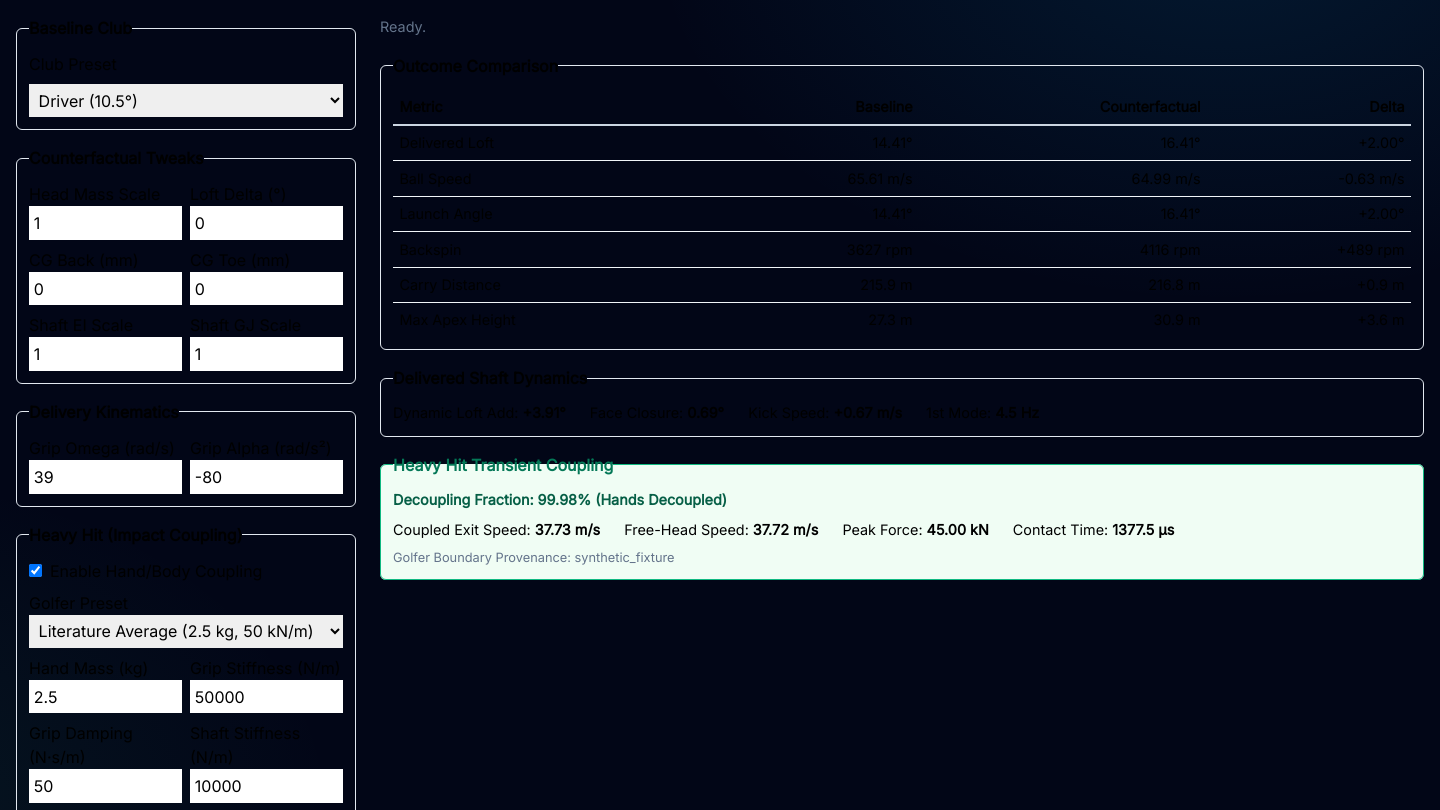
Scenario: ClubTesterPanel component › updates counterfactual calculations on Run Evaluation click
Replace the text in the number field labelled "Loft Delta" with "2.0". click: (266,223)
box: [190, 206, 343, 240]
(page scrolled)
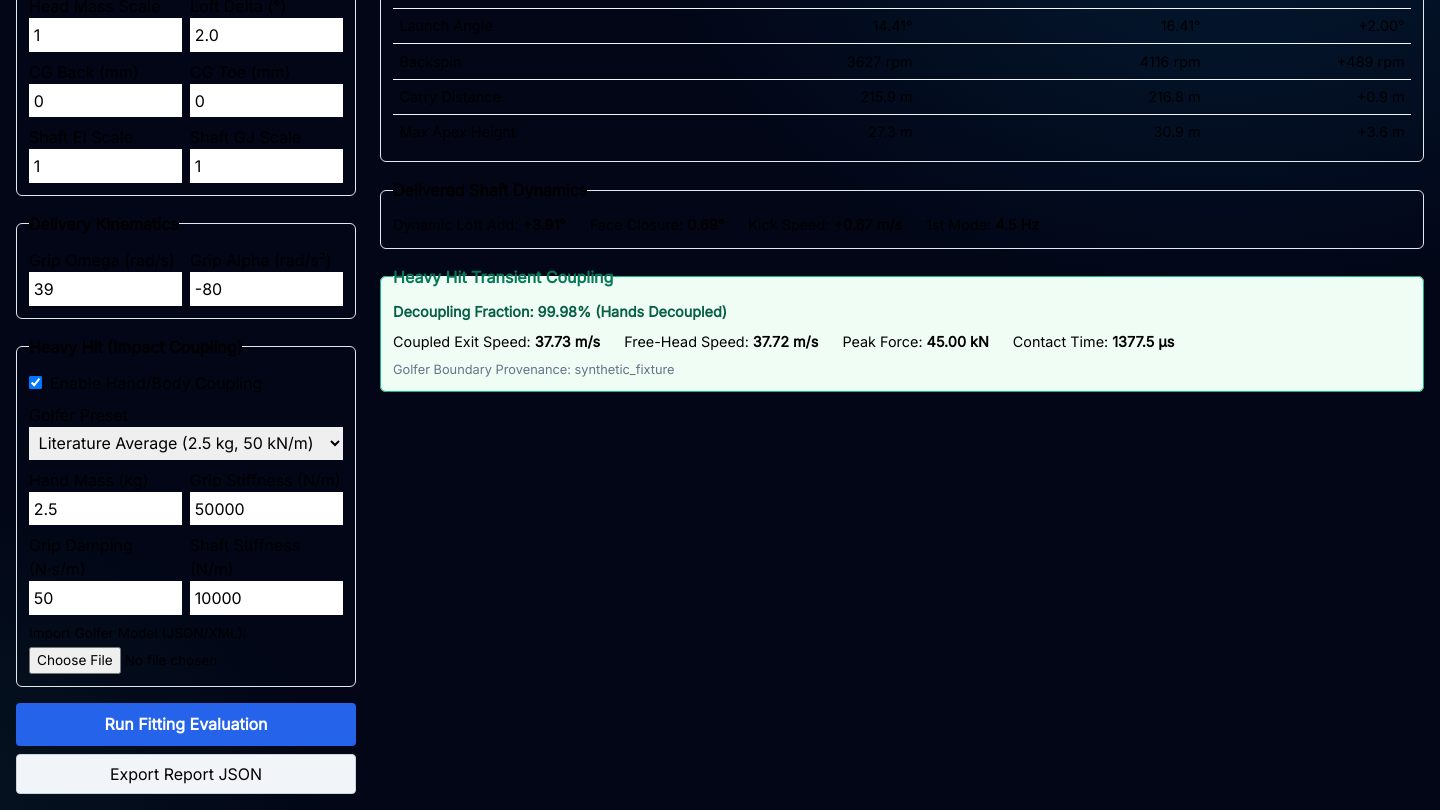
Click the button with aria-label "Run Club Tester Evaluation". click: (186,724)
box: [16, 703, 356, 746]
(page scrolled)
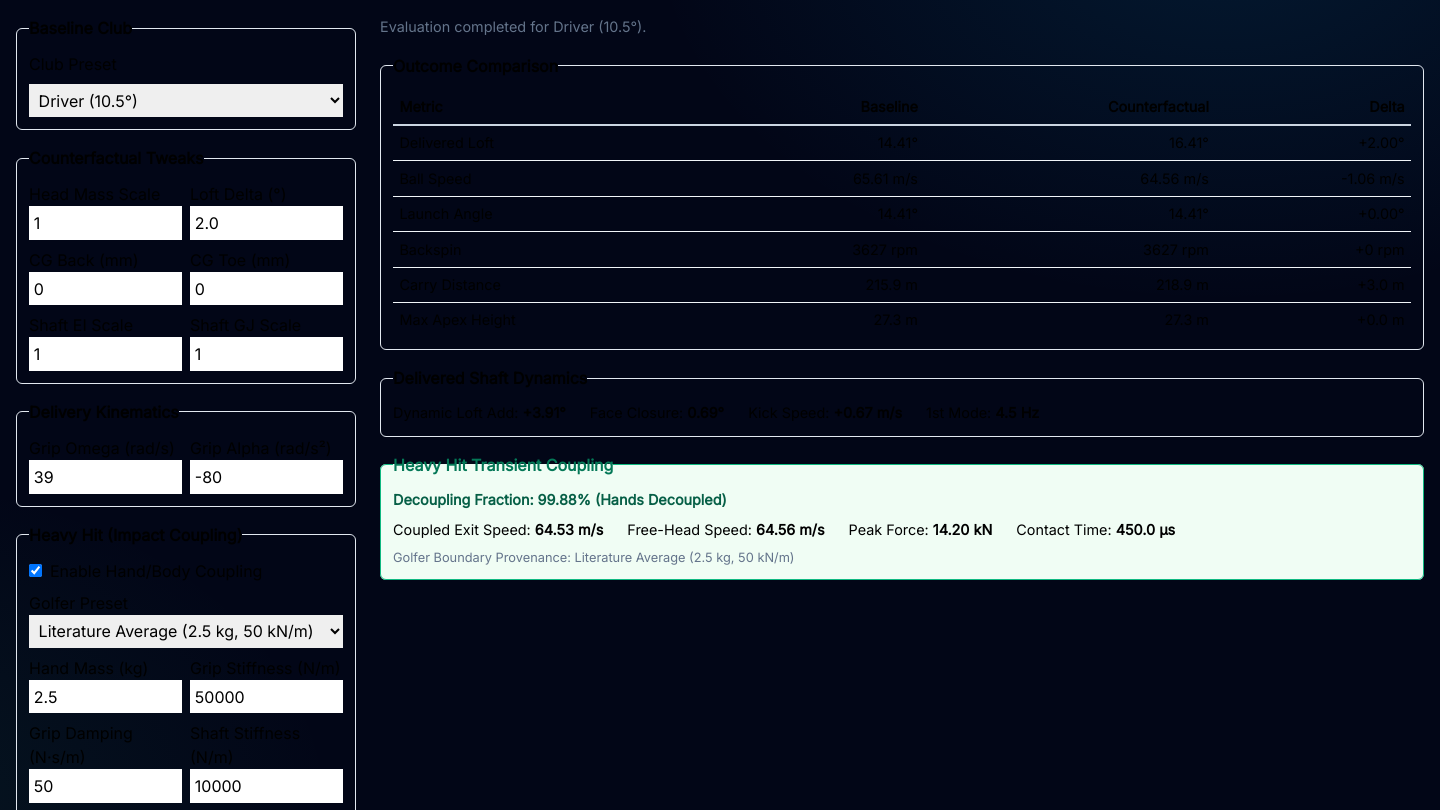
Now the text "Evaluation completed for Driver (10.5°)." is shown, box [380, 18, 646, 35]
